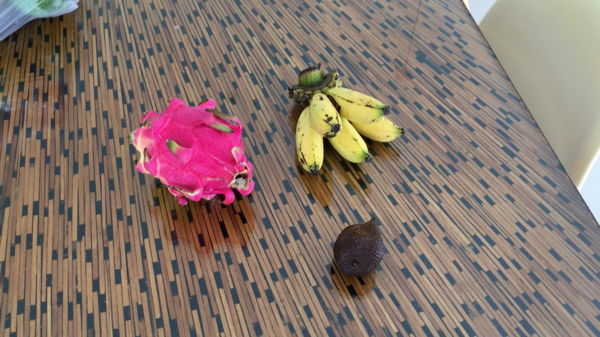banana: (288, 63, 407, 177)
dragon fruit: (131, 102, 253, 212)
snake fruit: (335, 222, 388, 273)
